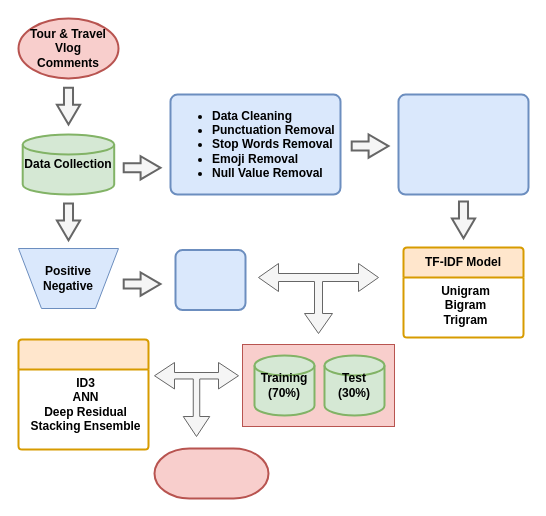
This 546x516 diagram has some shape labels left out. Here are the shapes that lost their labels. From the top down, the box of each, then its label:
(397, 93, 529, 195): Tokenizaton Streaming & Lematization
(174, 249, 246, 311): Label Encoding
(17, 338, 149, 450): ML Algorithm
(153, 447, 269, 499): Predicted Output
